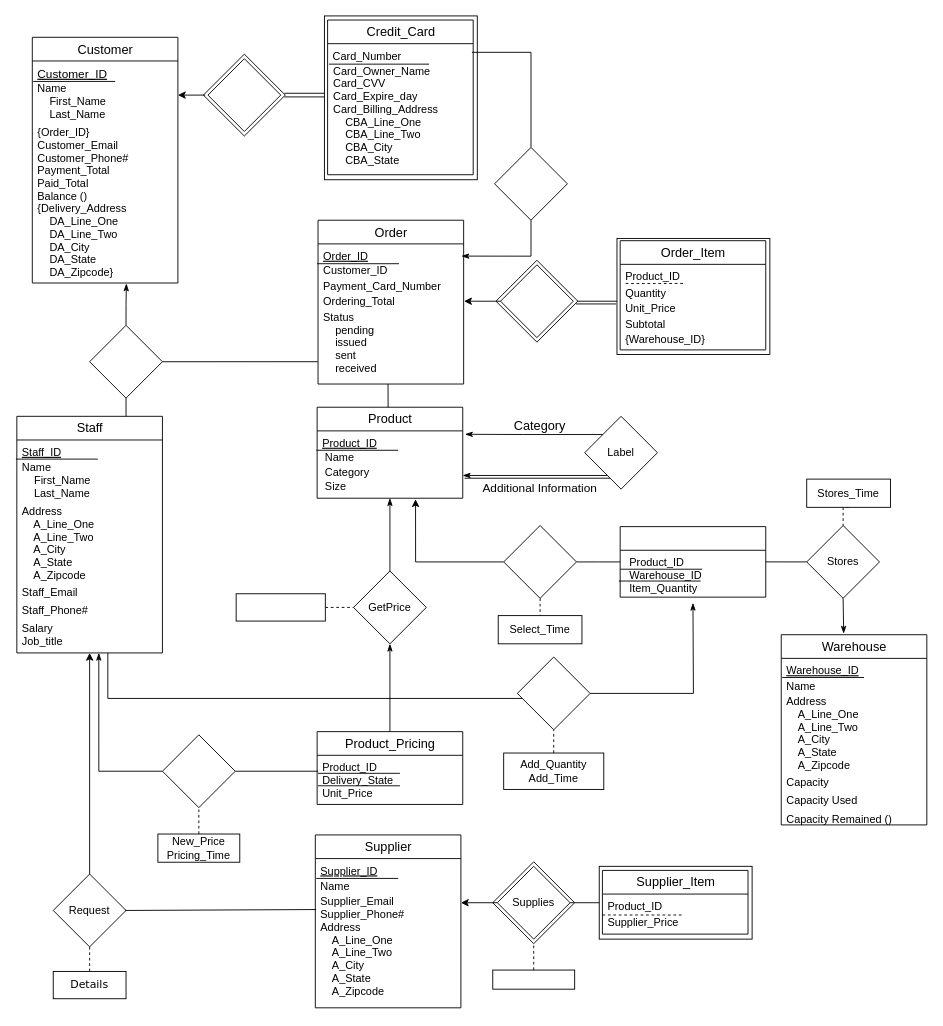
This 943x1026 diagram has some shape labels left out. The shapes that lost their labels are listed below. From the top down, each one's centre as x and y in pixels, then its label:
point 244,94: Owns
point 530,183: PaidWith
point 536,301: Includes
point 125,361: Ordering
point 539,561: Availability
point 692,561: Stock
point 280,607: GetPrice_Time
point 553,693: addStock
point 198,771: Pricing
point 533,979: Supply_Time
